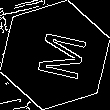M_W: (25, 27, 85, 83)
